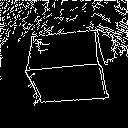cube: (18, 27, 121, 111)
